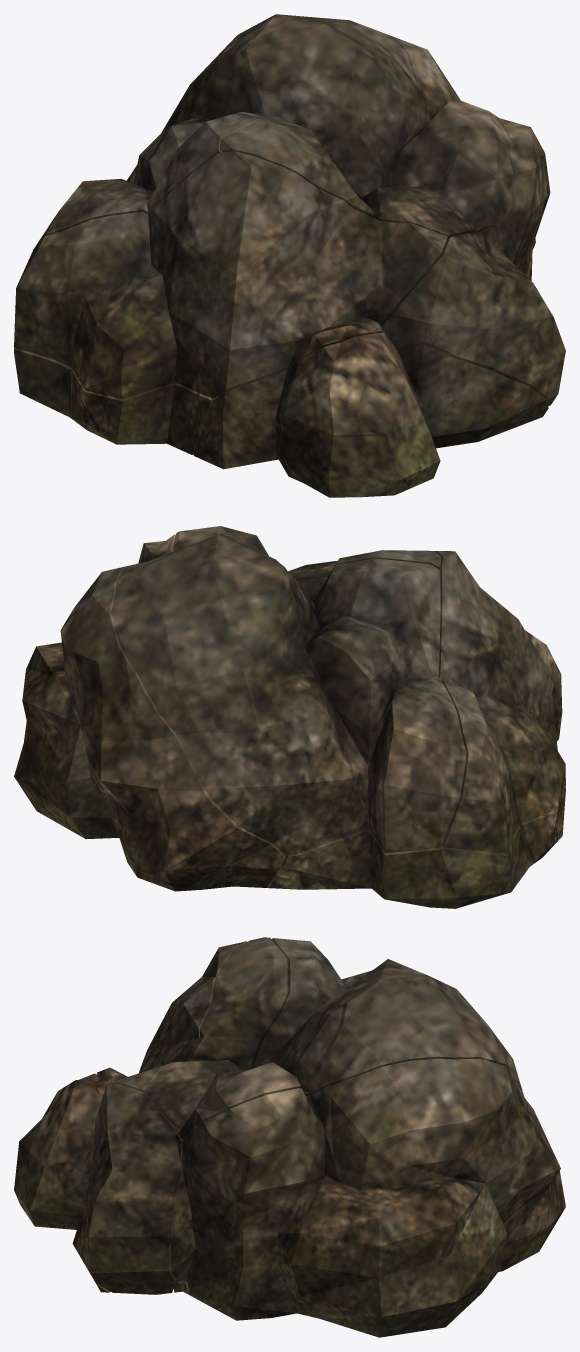
File: Broke_Boulder_rock.fbx
3 renders of one model, top to bottom at view 1: azimuth 30°, elevation 25°; view 2: azimuth 150°, elevation 25°; view 3: azimuth 270°, elevation 25°, orthographic. The views are drawn at different scales.
Visible parts, largest first — view 1: Boulder_rock9, Boulder_rock7, Boulder_rock2, Boulder_rock3, Boulder_rock8, Boulder_rock10, Boulder_rock5, Boulder_rock6; view 2: Boulder_rock2, Boulder_rock10, Boulder_rock9, Boulder_rock6, Boulder_rock3, Boulder_rock5, Boulder_rock7; view 3: Boulder_rock10, Boulder_rock2, Boulder_rock8, Boulder_rock3, Boulder_rock7, Boulder_rock9.
Part boxes in pixels (left/top/right/bottom): Boulder_rock9: left=14, top=151, right=447, bottom=399; Boulder_rock7: left=193, top=333, right=548, bottom=497; Boulder_rock2: left=27, top=14, right=426, bottom=262; Boulder_rock3: left=220, top=51, right=513, bottom=239; Boulder_rock8: left=380, top=227, right=565, bottom=406; Boulder_rock10: left=391, top=36, right=550, bottom=280; Boulder_rock5: left=71, top=370, right=219, bottom=454; Boulder_rock6: left=14, top=347, right=73, bottom=420; Boulder_rock2: left=111, top=534, right=466, bottom=856; Boulder_rock10: left=14, top=534, right=326, bottom=891; Boulder_rock9: left=435, top=551, right=565, bottom=853; Boulder_rock6: left=269, top=826, right=532, bottom=908; Boulder_rock3: left=172, top=526, right=441, bottom=598; Boulder_rock5: left=520, top=787, right=565, bottom=863; Boulder_rock7: left=525, top=630, right=562, bottom=750; Boulder_rock10: left=170, top=1058, right=565, bottom=1337; Boulder_rock2: left=250, top=938, right=538, bottom=1119; Boulder_rock8: left=81, top=1082, right=183, bottom=1294; Boulder_rock3: left=144, top=937, right=343, bottom=1139; Boulder_rock7: left=14, top=1073, right=110, bottom=1292; Boulder_rock9: left=94, top=941, right=247, bottom=1097.
Bounding box in the file's own units: 16.17 × 9.21 × 16.42.
